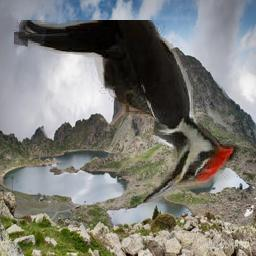Woodpecker: (15, 20, 248, 202)
